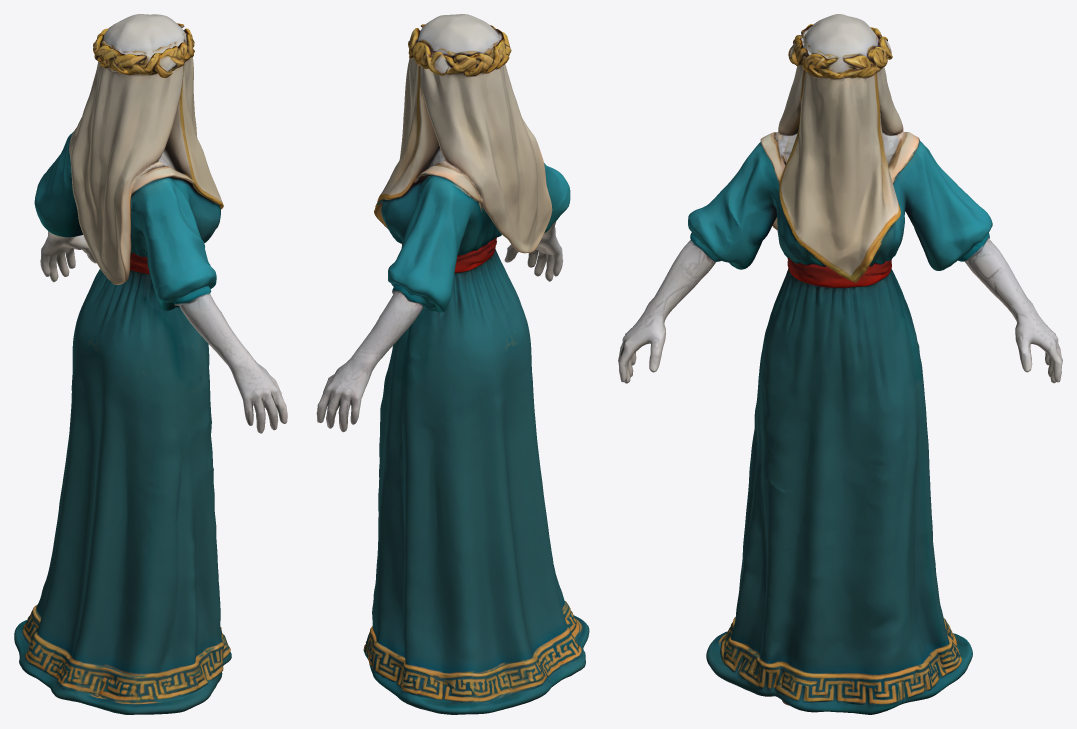
3 renders of one model, left to right at view 1: azimuth 30°, elevation 25°; view 2: azimuth 150°, elevation 25°; view 3: azimuth 270°, elevation 25°, orthographic. The views are drawn at different scales.
Parts seen in each view (by area): view 1: tripo_node_21f96af8-fe80-4c41-be59-ec716920a583; view 2: tripo_node_21f96af8-fe80-4c41-be59-ec716920a583; view 3: tripo_node_21f96af8-fe80-4c41-be59-ec716920a583.
Part boxes in pixels (<box>): tripo_node_21f96af8-fe80-4c41-be59-ec716920a583: <box>14,14,287,714</box>; tripo_node_21f96af8-fe80-4c41-be59-ec716920a583: <box>316,14,589,714</box>; tripo_node_21f96af8-fe80-4c41-be59-ec716920a583: <box>618,14,1062,714</box>.
Bounding box in the file's own units: 0.2911 × 1 × 0.6088.
Materials: 1 (1 with a texture image).
